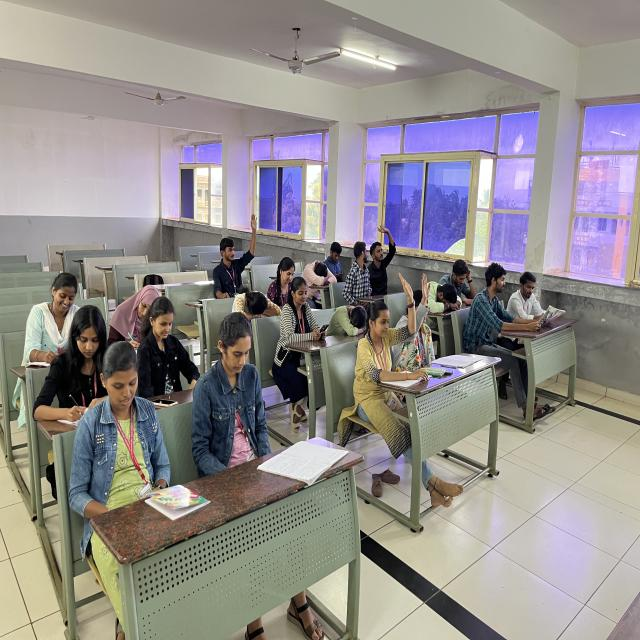Hand Rising: (352, 270, 416, 381), (186, 200, 267, 287), (398, 252, 435, 366), (362, 213, 405, 290)
Reading: (470, 249, 564, 352), (510, 255, 567, 339)
Sleeping: (226, 265, 283, 332), (322, 287, 367, 350), (424, 268, 464, 321), (297, 249, 338, 286)
Using Phone: (77, 345, 172, 486), (188, 316, 280, 455), (276, 272, 329, 345), (326, 230, 350, 284)
Writing: (46, 303, 117, 463), (14, 260, 88, 390), (98, 272, 170, 353)
